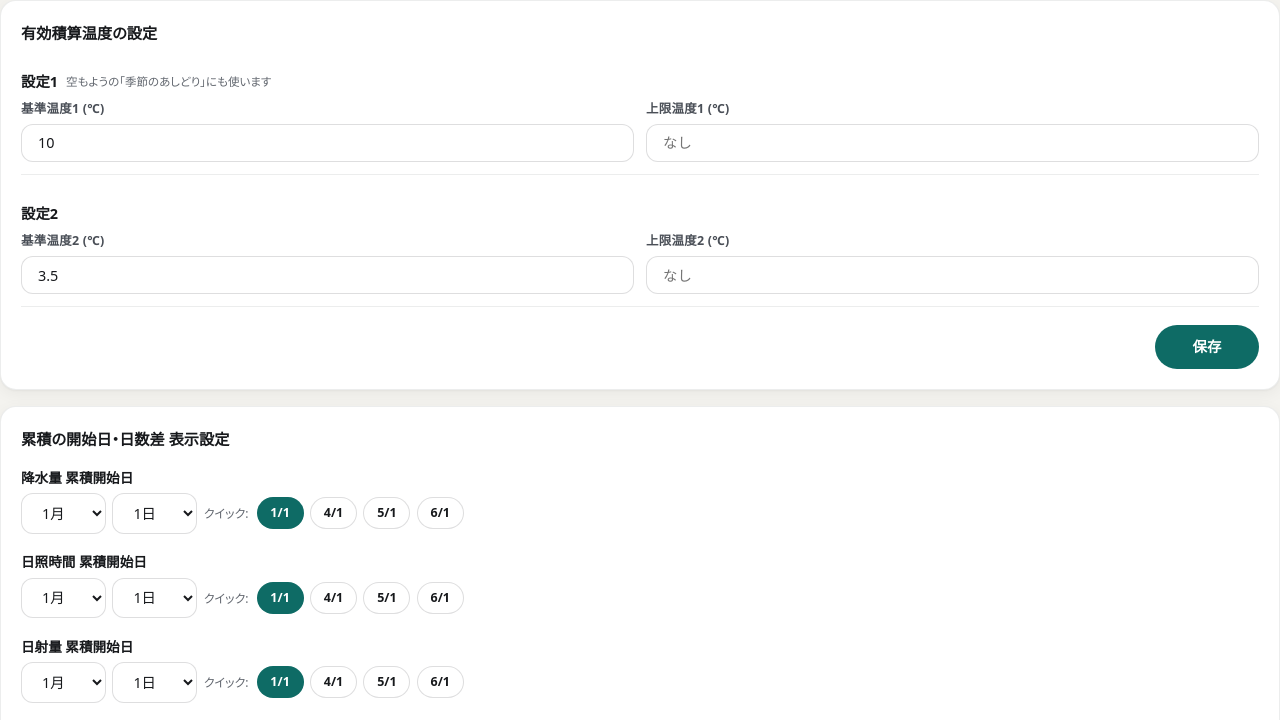
Test: AnalysisSettings 上限温度 › 範囲外・基準温度以下はエラーを出して保存しない
This screenshot has width=1280, height=720.
In the number field with placeholder "なし": point(952, 143) [646,124,1259,162], type "55"
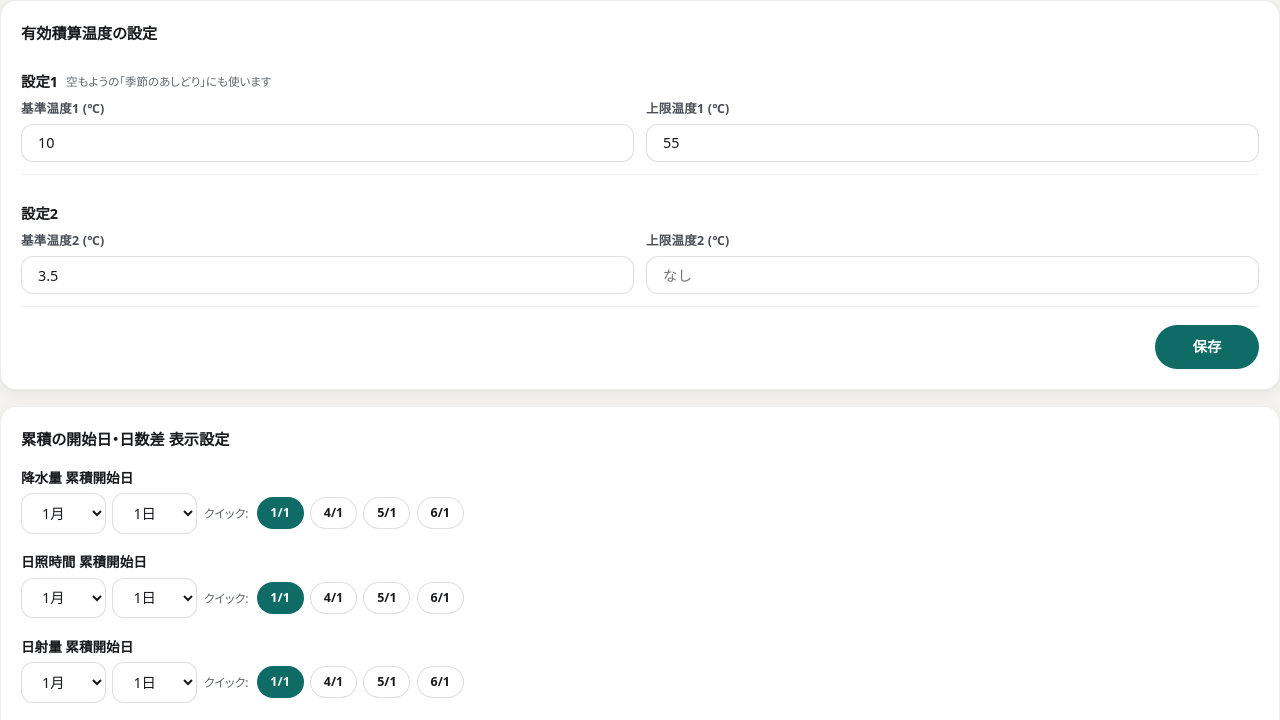
Click the button "保存": point(1207, 347) [1155,325,1259,369]
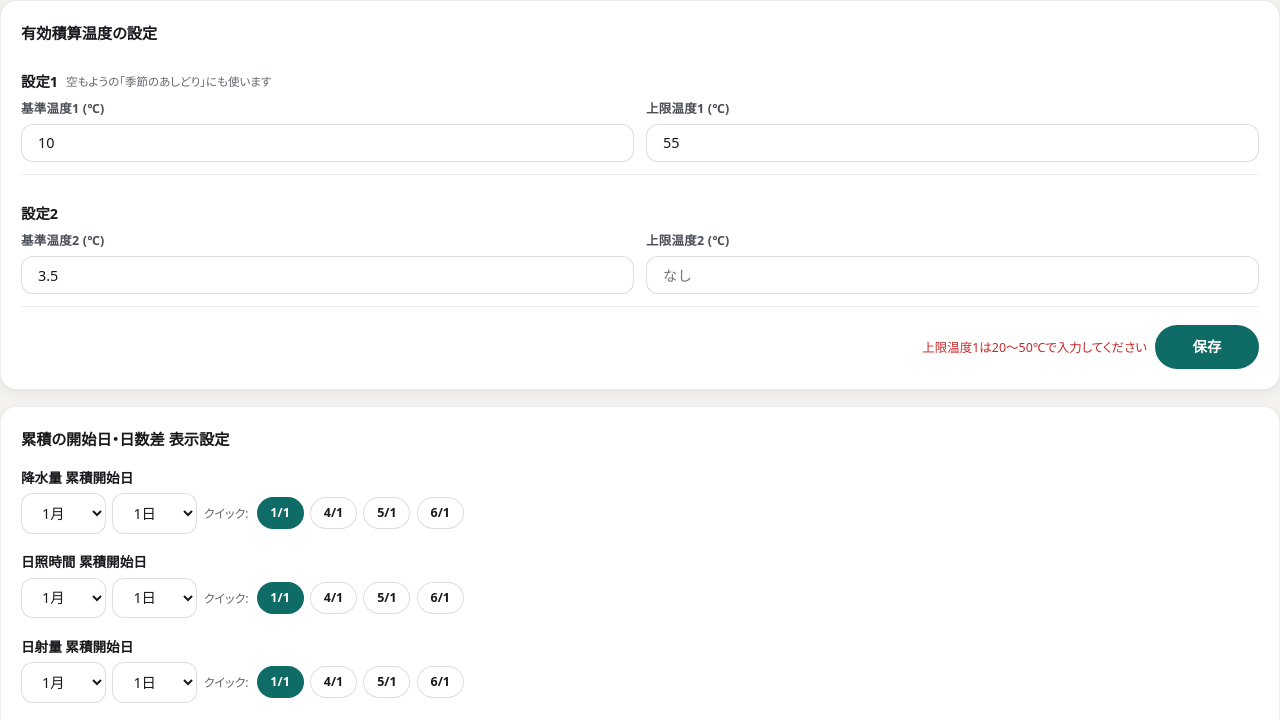
Expected: the text "上限温度1は20〜50℃で入力してください" is shown, [922,338,1147,356]
Clear the number field with placeholder "なし": point(952, 143) [646,124,1259,162]
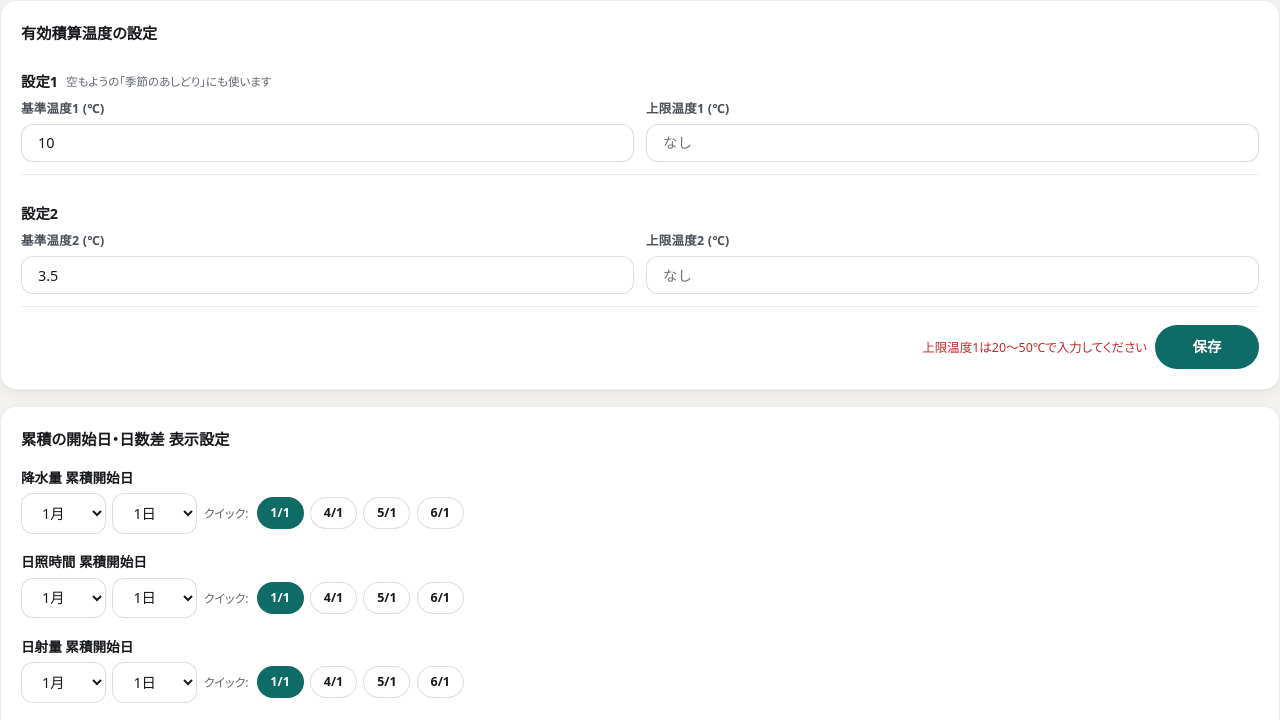
In the number field with placeholder "なし": point(952, 275) [646,256,1259,294], type "20"
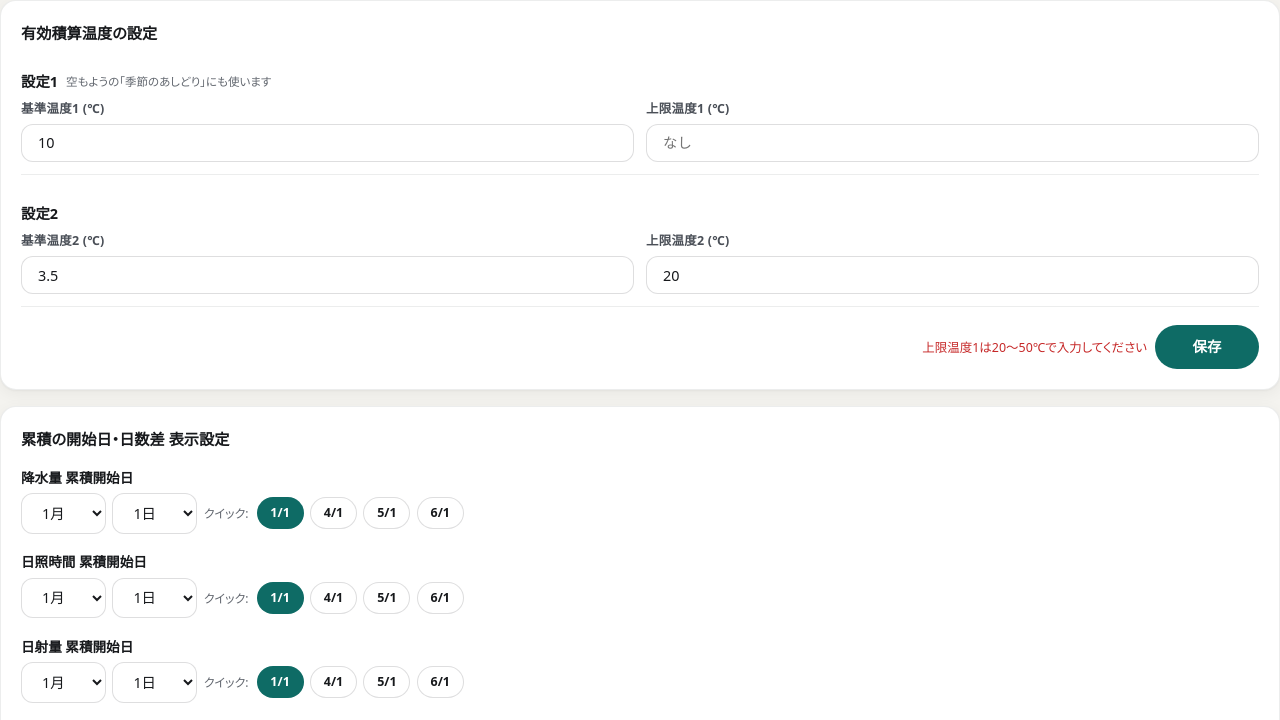
Replace the text in the number field labelled "基準温度2 (℃)" with "25": point(328, 275) [21,256,634,294]
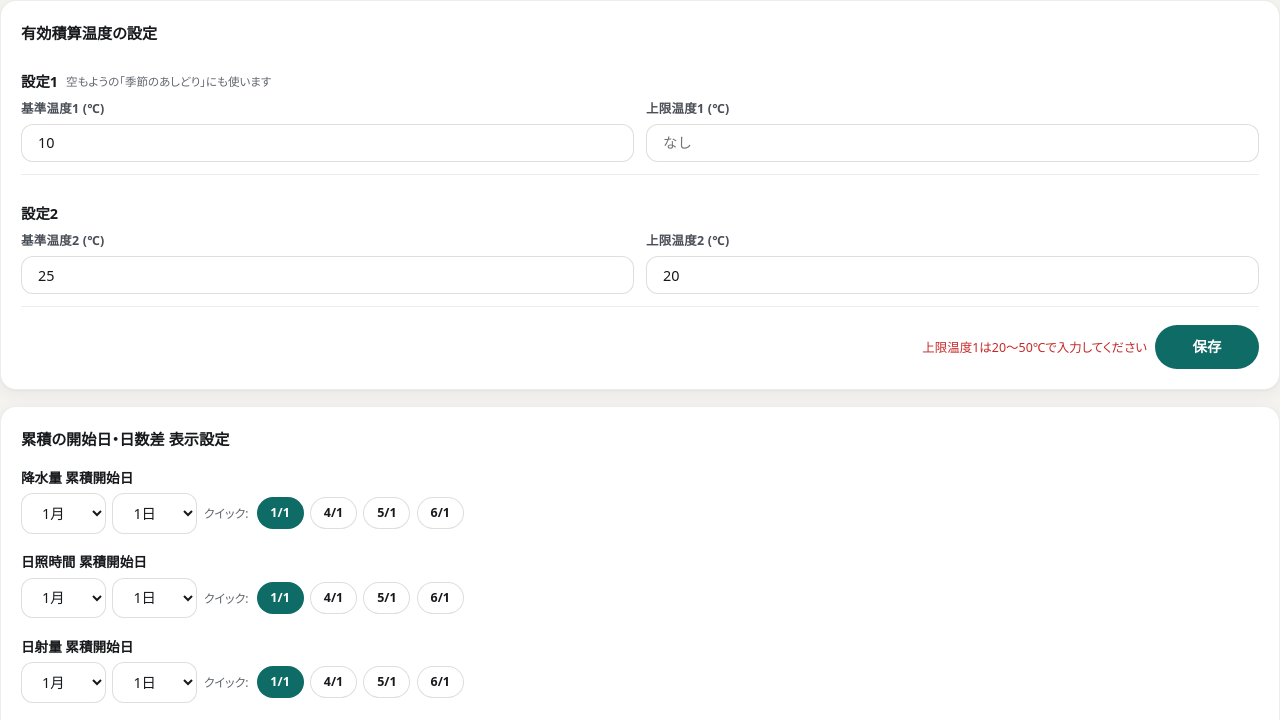
Click the button "保存": point(1207, 347) [1155,325,1259,369]
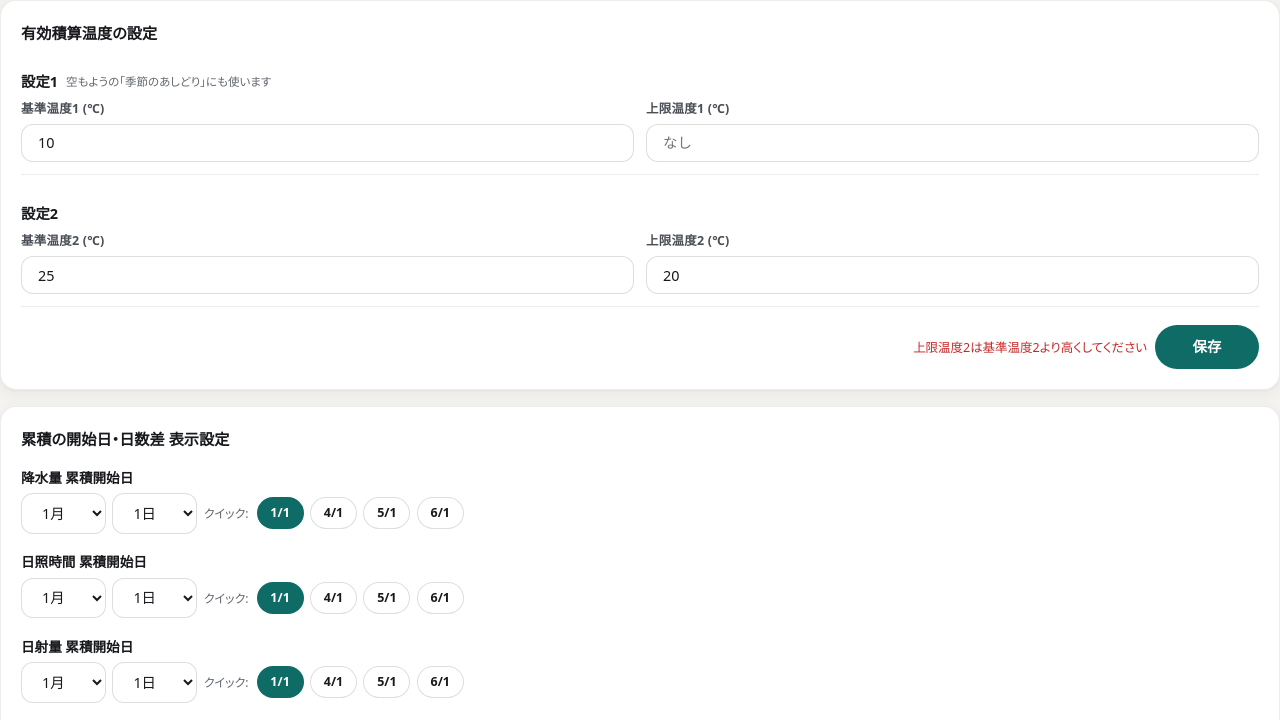
Expected: the text "上限温度2は基準温度2より高くしてください" is shown, [913,338,1147,356]
